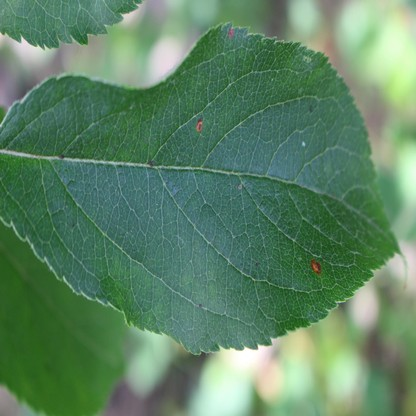rust: (310, 258, 321, 274), (195, 115, 203, 131), (228, 28, 233, 35)
